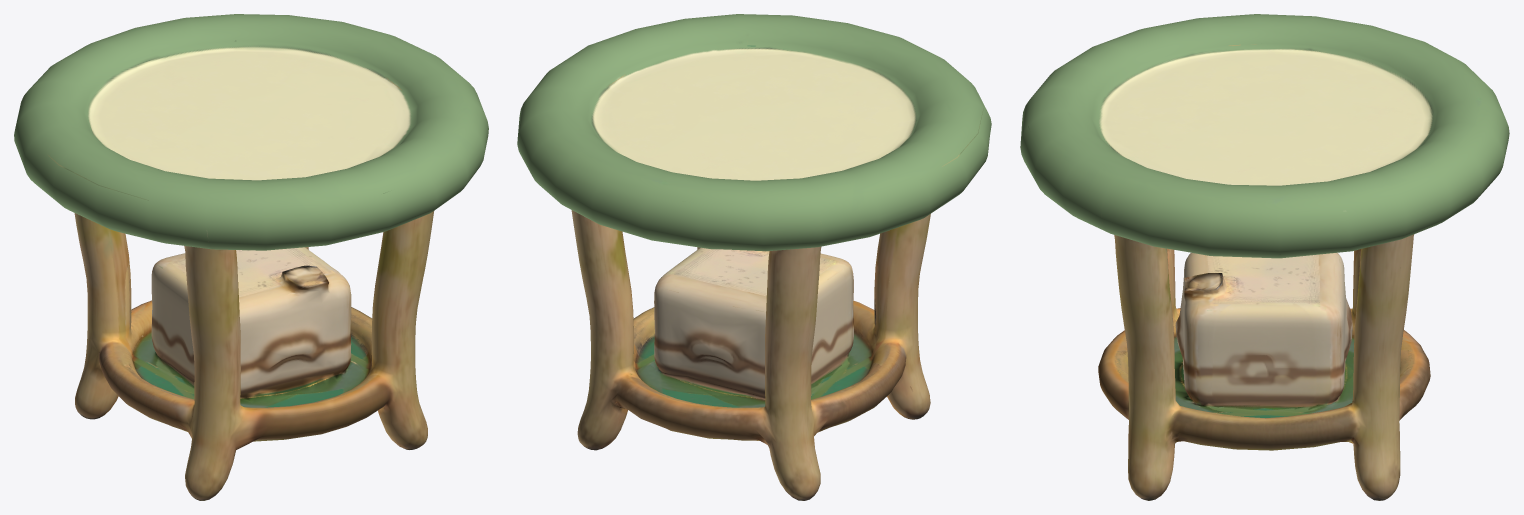
The model's file is Tabletop.glb.
3 renders of one model, left to right at view 1: azimuth 30°, elevation 25°; view 2: azimuth 150°, elevation 25°; view 3: azimuth 270°, elevation 25°, orthographic. The views are drawn at different scales.
Parts seen in each view (by area): view 1: Mesh_0; view 2: Mesh_0; view 3: Mesh_0.
Part boxes in pixels (x1,y1,x2,y2): Mesh_0: (14, 14, 488, 500); Mesh_0: (517, 14, 991, 500); Mesh_0: (1020, 14, 1509, 500).
Size of the model in its own units: 1.89 by 1.46 by 1.89.
Materials: 1 (1 with a texture image).
